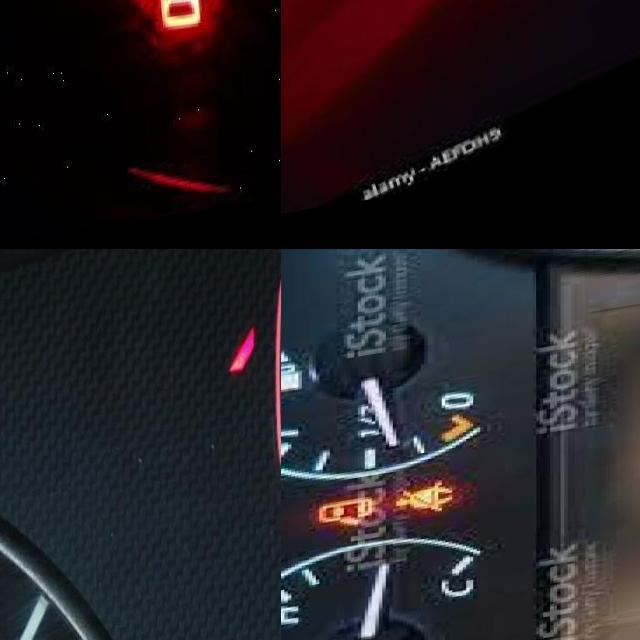Seat Belt: (391, 492, 464, 530)
